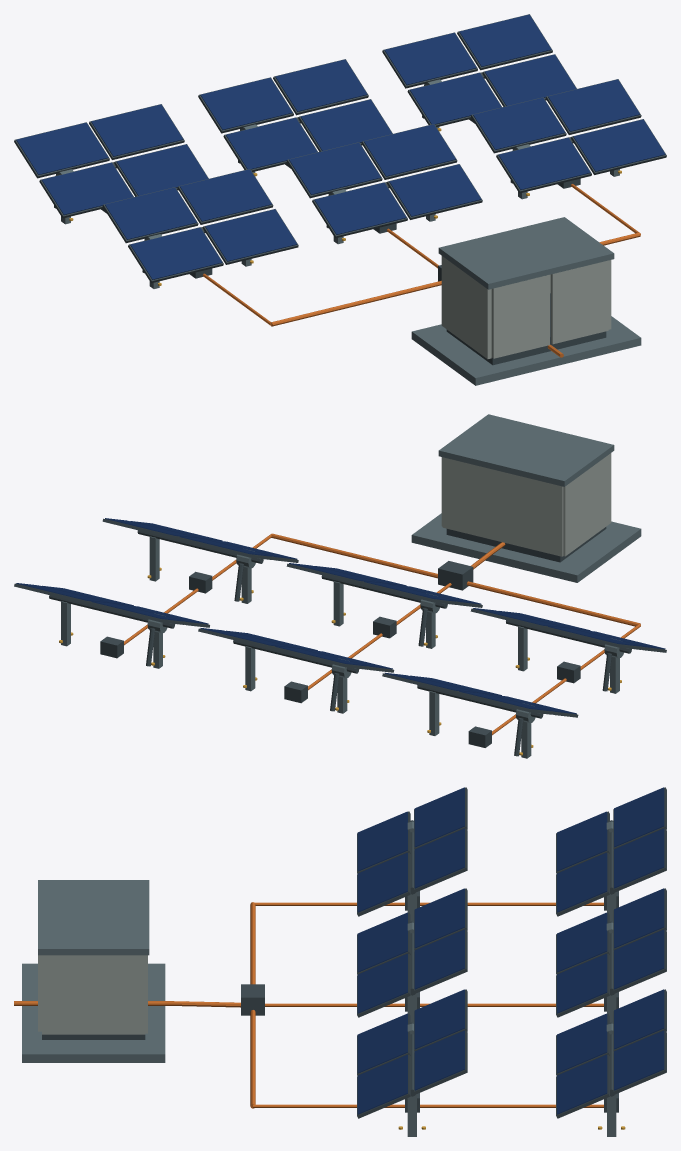
Rendered from solar_power_complex_lod2_d0.glb.
3 renders of one model, top to bottom at view 1: azimuth 30°, elevation 25°; view 2: azimuth 150°, elevation 25°; view 3: azimuth 270°, elevation 25°, orthographic. The views are drawn at different scales.
Visible parts, largest first — view 1: SOLAR_GAME_MESH; view 2: SOLAR_GAME_MESH; view 3: SOLAR_GAME_MESH.
Part boxes in pixels (<box>): SOLAR_GAME_MESH: <box>14,14,666,385</box>; SOLAR_GAME_MESH: <box>14,414,666,758</box>; SOLAR_GAME_MESH: <box>14,787,666,1136</box>.
Size of the model in its own units: 16.79 by 2.86 by 16.39.
